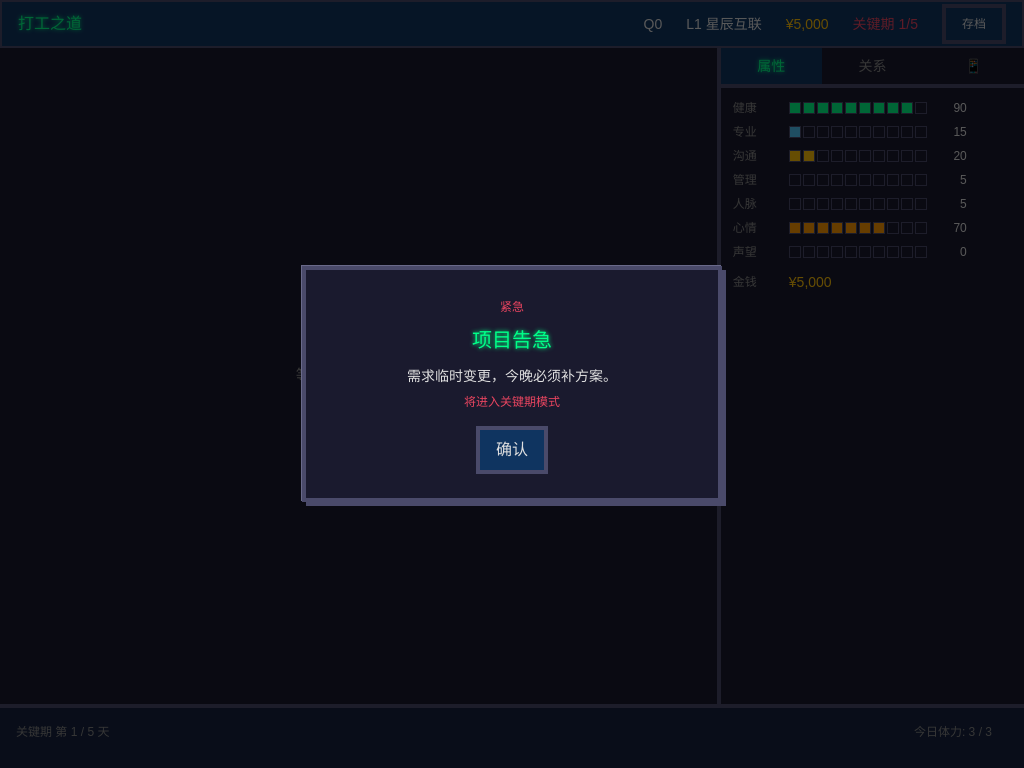
it: GamePage › dismisses EventPopup when confirm is clicked
Click the button "确认": (512, 450) [476,426,548,474]
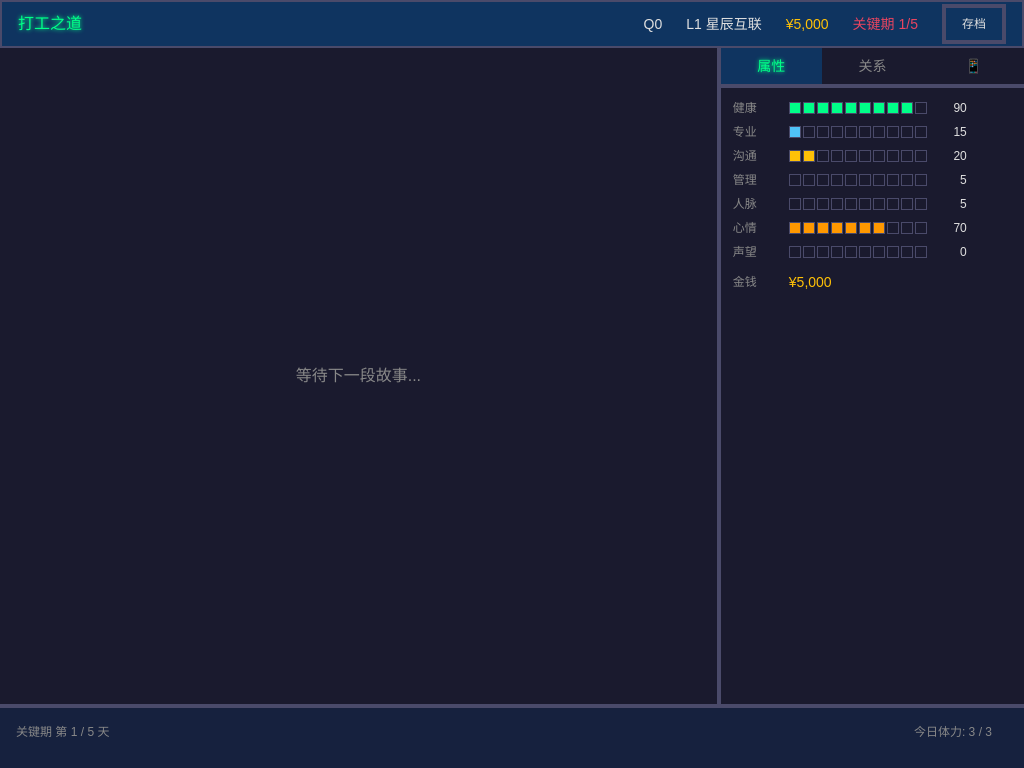
Result: the heading "项目告急" is gone
